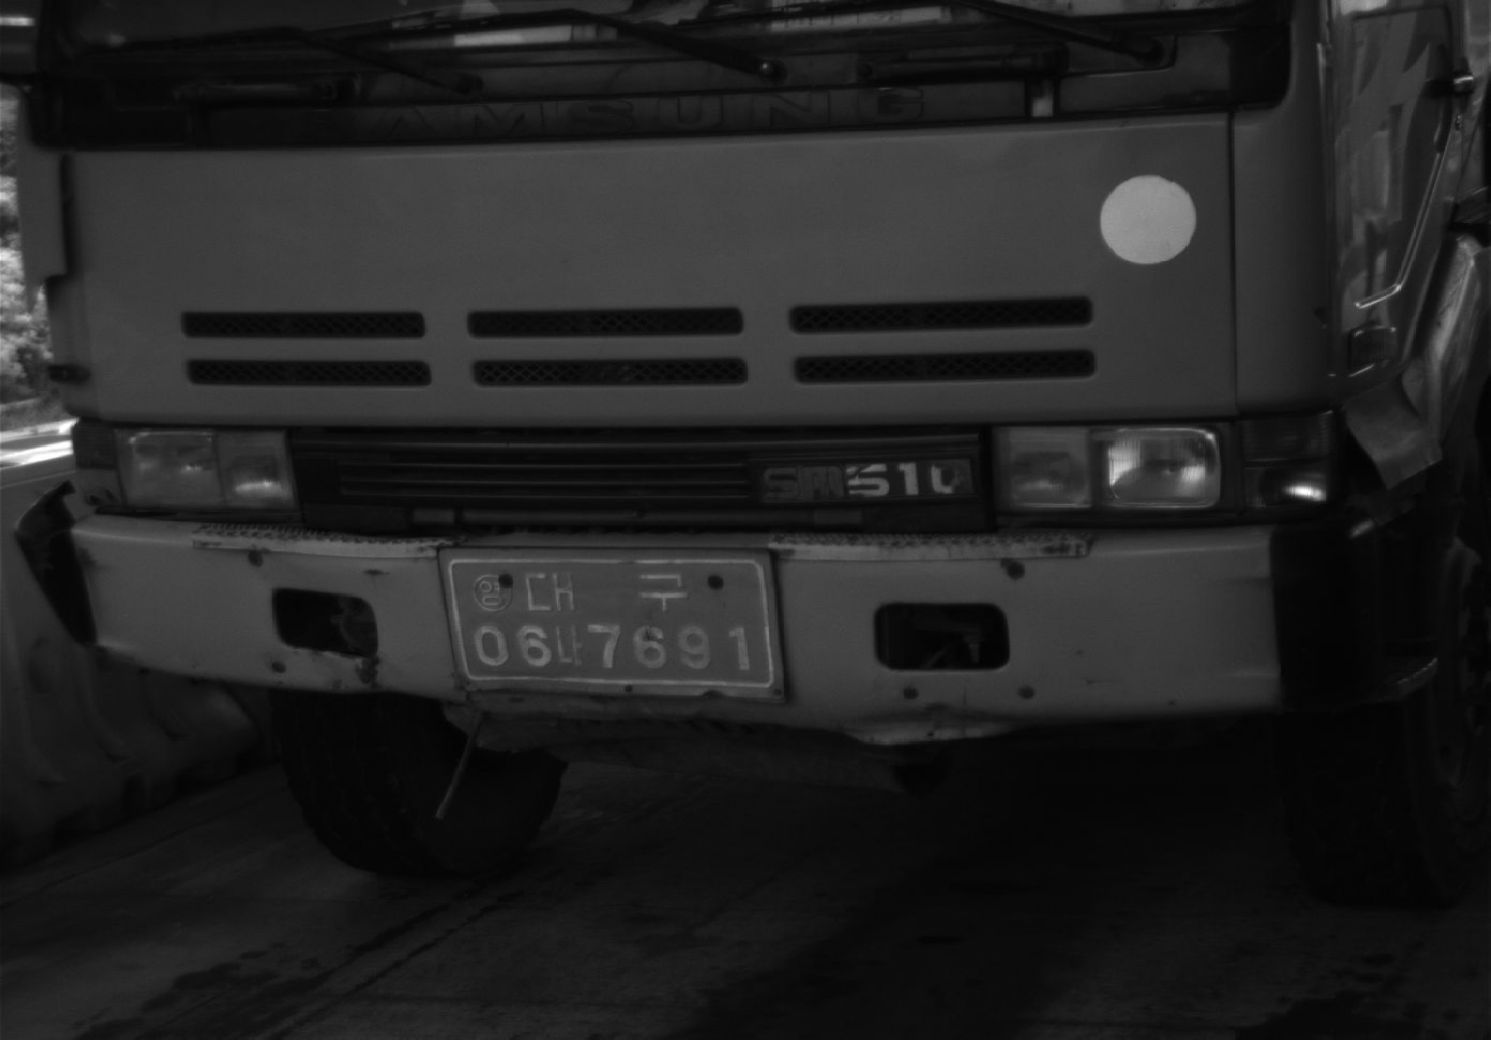car: (12, 1, 1491, 878)
plate: (437, 543, 788, 698)
